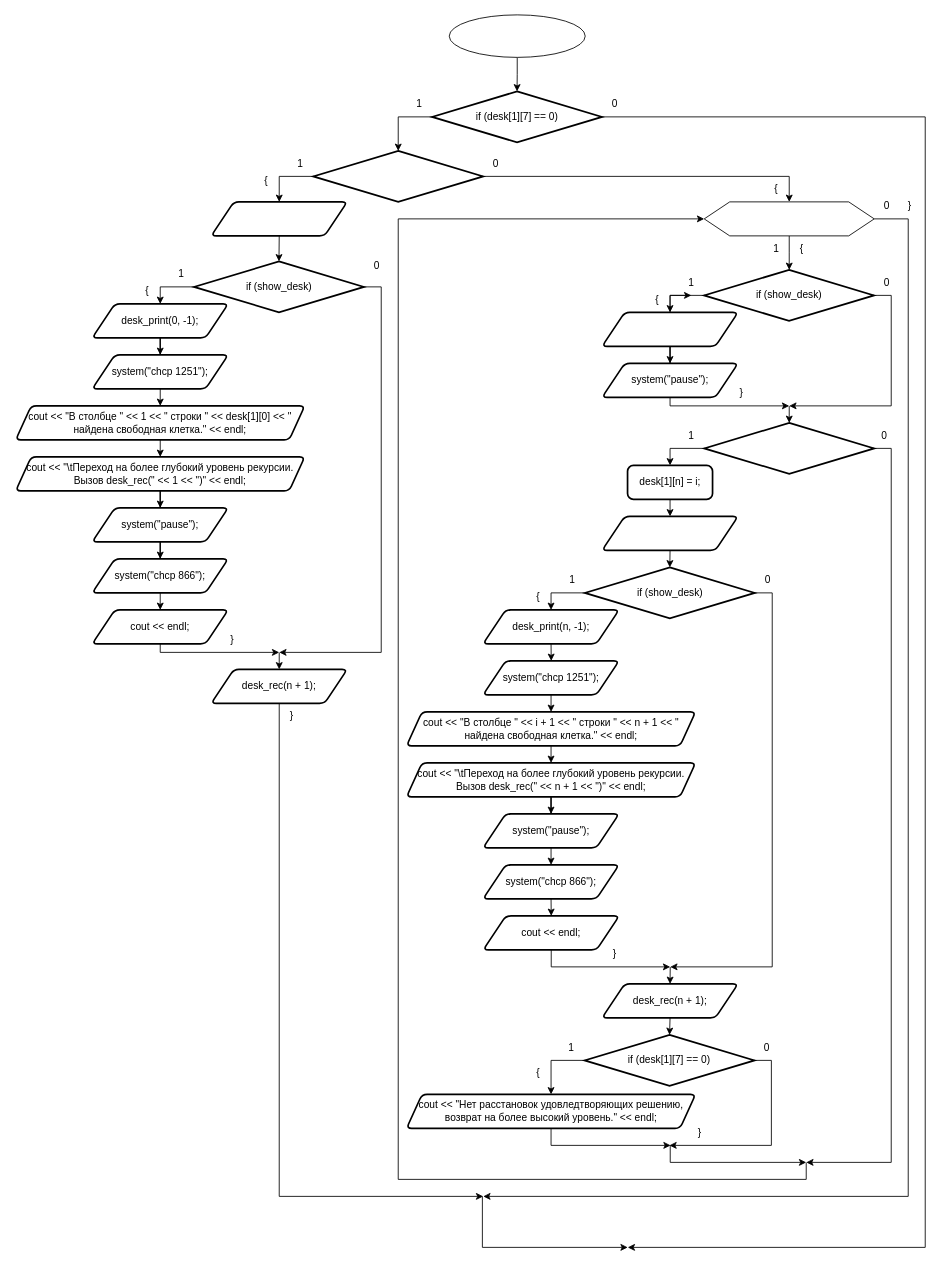
Image size: 947x1269. Some labels were removed from this diagram. The shapes that lost their labels are listed below. From the top down, each one's box as (x1, y1, x2, y2) in pixels, then its label:
(448, 14, 585, 57): void desk_rec(int n) {
(312, 150, 484, 202): if (n == 0)
(210, 201, 348, 236): desk_place(0);
(703, 201, 874, 236): for (int i = 0; i < 8; ++i)
(601, 311, 738, 347): desk_print(n - 1, i);
(703, 422, 875, 474): if (desk[n + (n - 1) * 8 + 2][i] == 0 && (desk[1][7] == 0))
(601, 515, 738, 551): desk_place(n);
